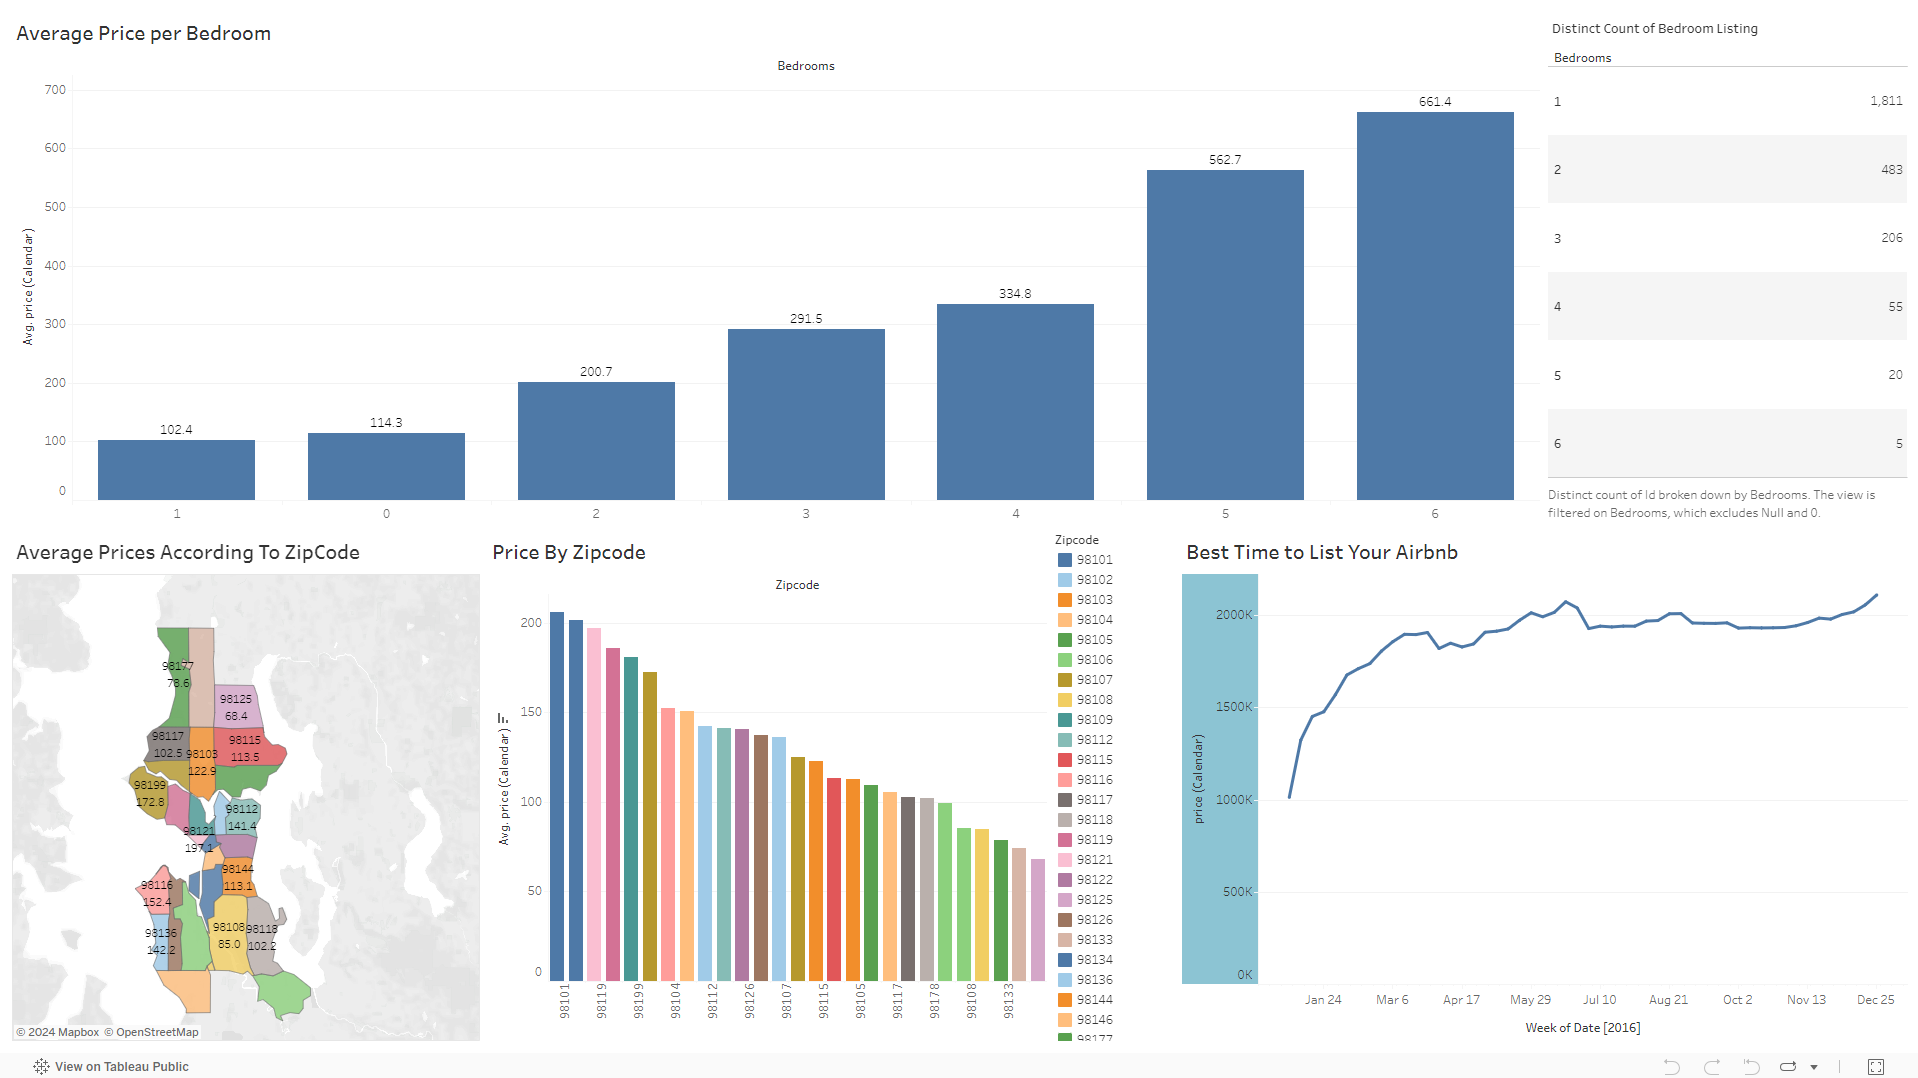

What the dashboard file says about the page in this screenshot:
{"tool":"tableau","page":{"name":"Dashboard 1","canvas":[1000,1000],"units":"permille","ordinal":0},"visuals":[{"type":"worksheet","title":"Sheet 4","mark":"Automatic","rows":["price (Calendar)"],"cols":["bedrooms"],"box":[4.8,9.9,799,490.1]},{"type":"worksheet","title":"Sheet 5","mark":"Automatic","rows":["bedrooms"],"box":[803.9,9.9,191.3,490.1]},{"type":"worksheet","title":"Sheet 2","mark":"Multipolygon","box":[4.8,500,247.4,490.1]},{"type":"worksheet","title":"Sheet 1","mark":"Automatic","rows":["price (Calendar)"],"cols":["zipcode"],"box":[252.2,500,295.1,490.1]},{"type":"legend","title":"Sheet 1","param":"[federated.1jre1ik0fxrzqw14g17s705jw3xb].[none:zipcode:ok]","box":[547.4,500,65.8,490.1]},{"type":"worksheet","title":"Sheet 3","mark":"Automatic","rows":["price (Calendar)"],"cols":["date"],"box":[613.2,500,382,490.1]}]}

Visuals, with their boxes on the dashboard's canvas, which has no fixed pixel size, in thousandths of its width and height (x1, y1, x2, y2). These are canvas units, not pixel positions in the 1918x1078 screenshot, which may show the page scaled, cropped or inside an application window:
"Sheet 4" worksheet: 5 10 804 500
"Sheet 5" worksheet: 804 10 995 500
"Sheet 2" worksheet (Multipolygon marks): 5 500 252 990
"Sheet 1" worksheet: 252 500 547 990
"Sheet 1" legend: 547 500 613 990
"Sheet 3" worksheet: 613 500 995 990
